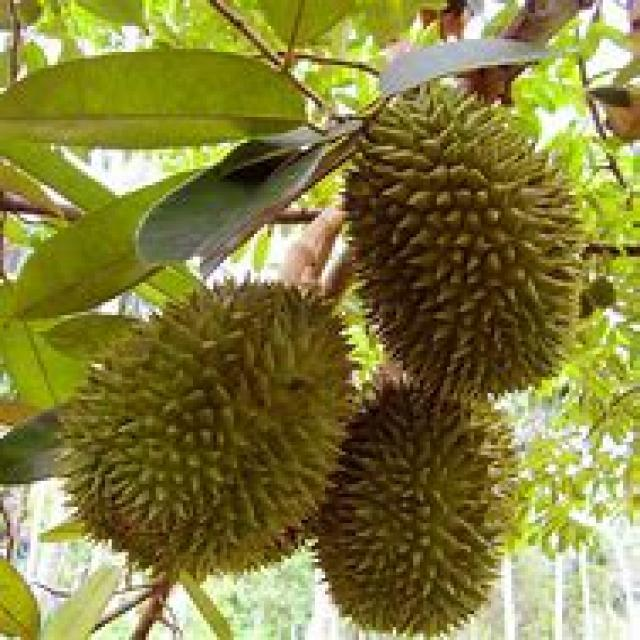mature: (65, 285, 349, 577), (347, 84, 576, 393), (318, 368, 513, 634)
